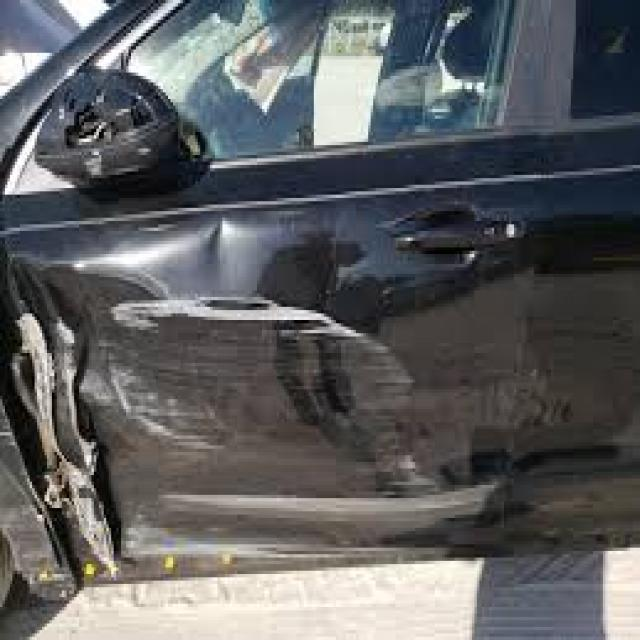damaged-door: (8, 0, 548, 572)
